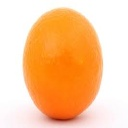orange: (23, 6, 104, 123)
